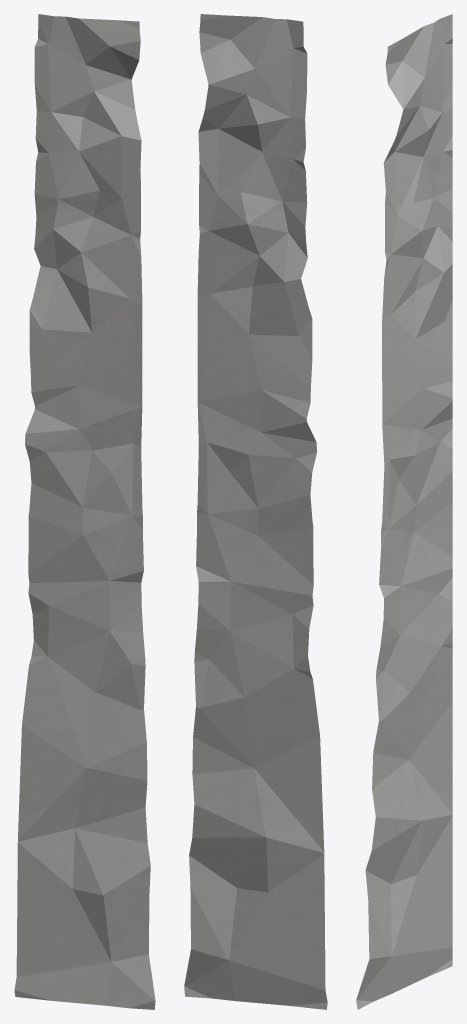
The picture shows the model from 3 angles, left to right: view 1: azimuth 30°, elevation 25°; view 2: azimuth 210°, elevation 25°; view 3: azimuth 270°, elevation 25°; orthographic projection. The views are drawn at different scales.
Bounding box in the file's own units: 0.0826 × 0.8374 × 0.0761.
1 material, 1 textured.
